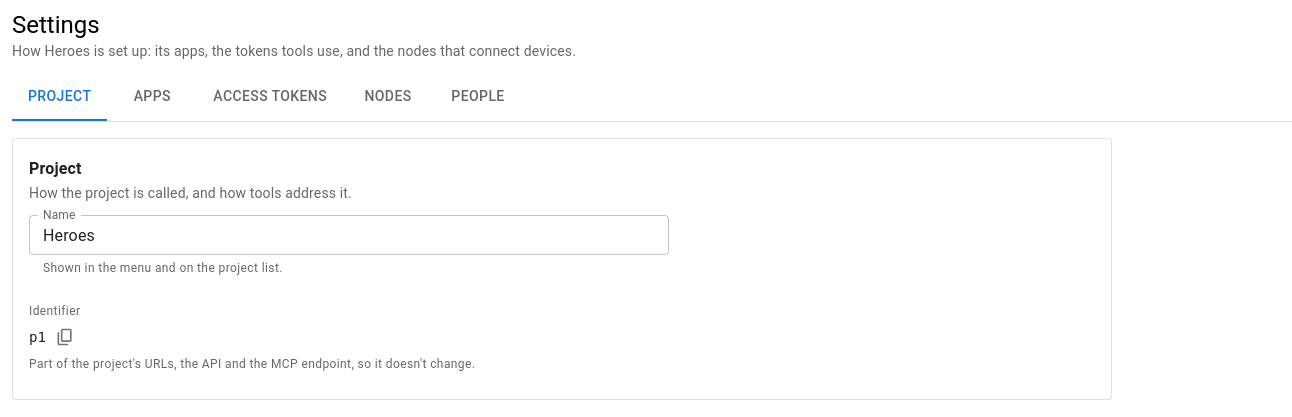
SettingsPage tabs: loads the Access tokens tab when it is picked
Click the tab "Access tokens". click: (270, 97)
box: [197,73,343,121]
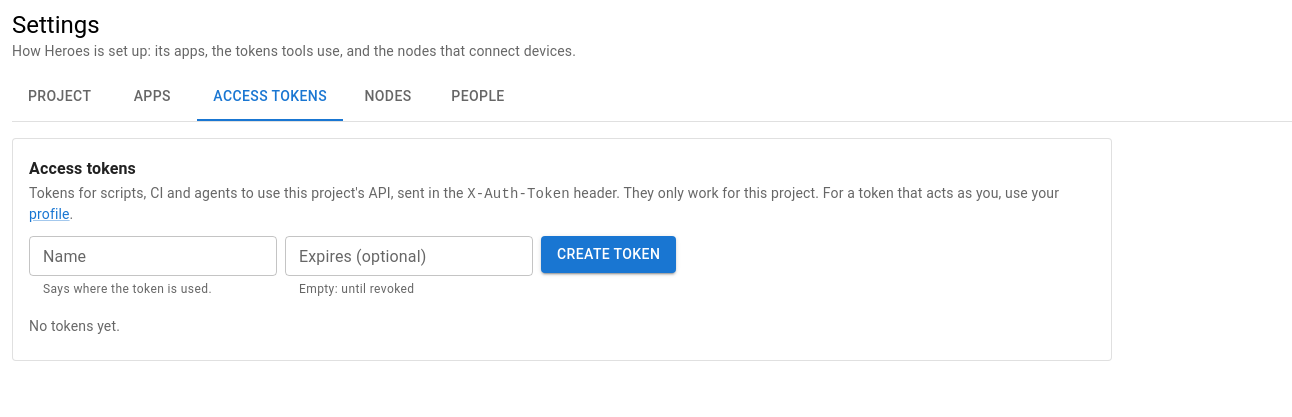
Now the text "Tokens for scripts, CI and agents" is shown, box [29,185,467,201]
